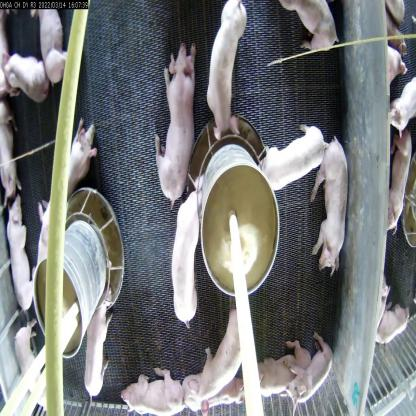Pig: (194, 0, 253, 135), (152, 43, 197, 196), (312, 134, 354, 280), (250, 109, 325, 190), (0, 182, 41, 320), (192, 309, 243, 415), (166, 186, 201, 326), (281, 0, 344, 70), (40, 119, 97, 194), (33, 186, 69, 292), (120, 367, 199, 415), (78, 290, 112, 401), (0, 48, 55, 110), (30, 2, 70, 87), (15, 317, 52, 408), (290, 336, 338, 406), (240, 362, 300, 401)
